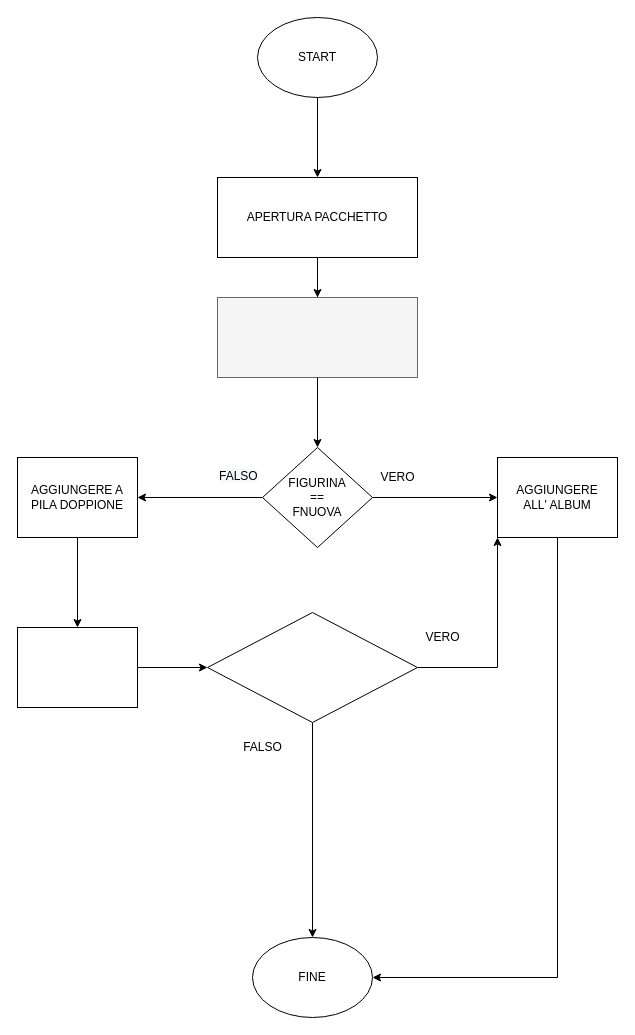
Some shapes in this 635 by 1035 pixel diagram are drawn without their labels. The shapes that lost their labels are listed below. From the top down, each one's centre as x and y in pixels, then its label:
At point 317,337: "CONFRONTIAMO OGNI SINGOLA CARTA CON L'ALBUM".
At point 77,667: "SCAMBIARE FDOPPIONA PER FNUOVA CON AMICI".
At point 312,667: "SE SCAMBIAMO FDOPPIONA CON UNA FNUOVA".
